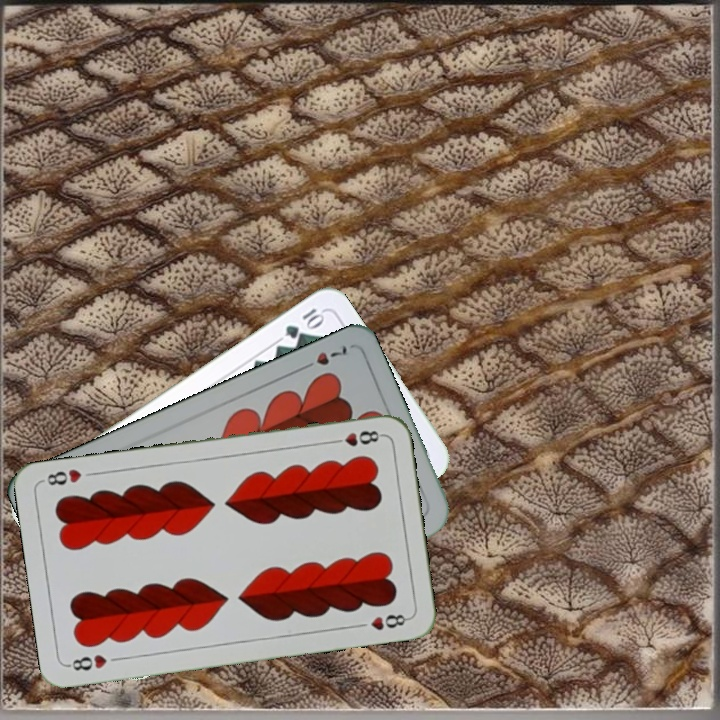G10: (281, 304, 327, 342)
H7: (296, 341, 350, 373)
H8: (326, 426, 385, 449), (64, 650, 109, 673)
